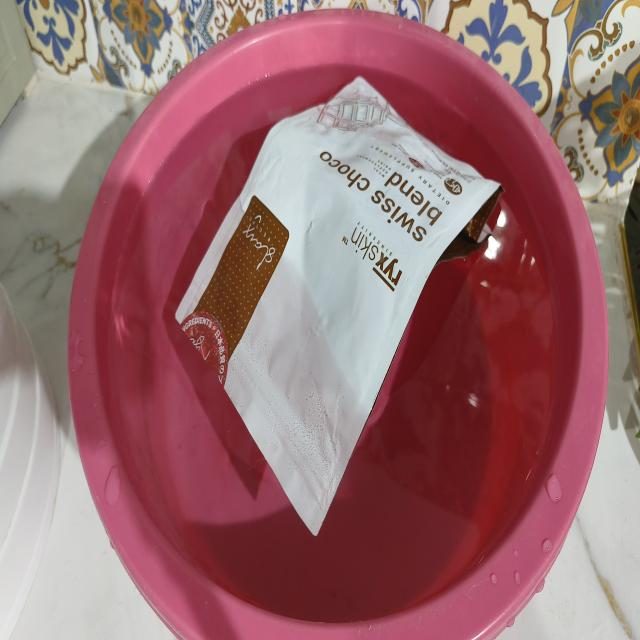Plastic Wrapper: (155, 48, 517, 570)
